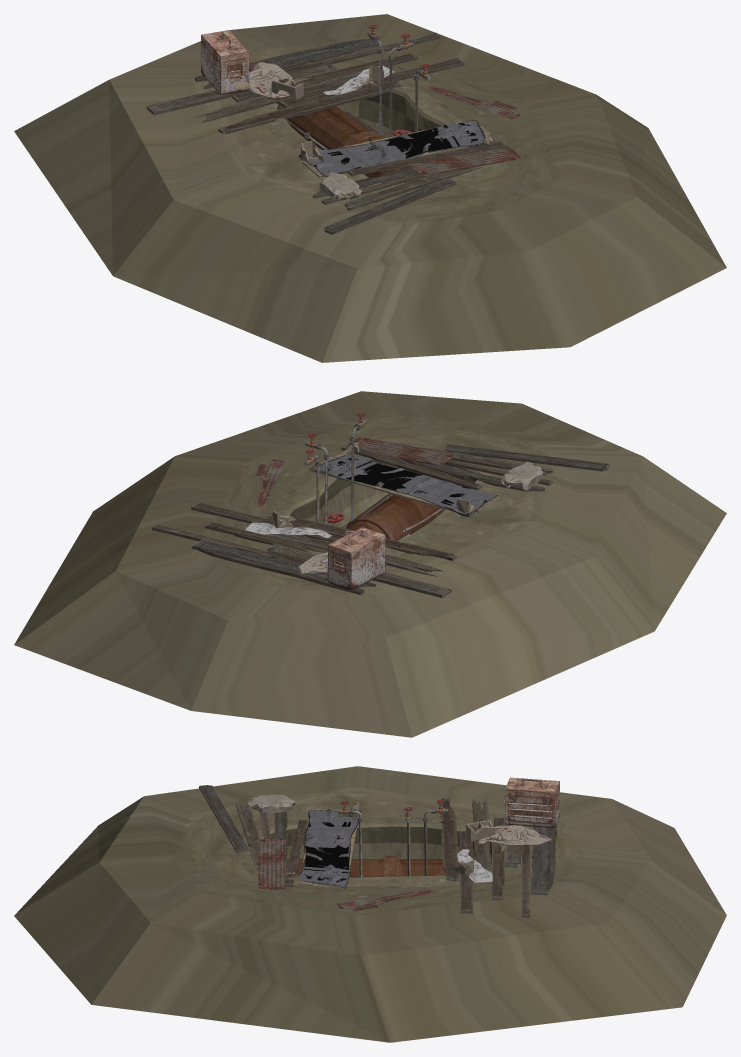
The model's file is watertreatment-pipe-access-point-6e3b8f8c-near-textured-map-near.glb.
The picture shows the model from 3 angles, top to bottom: view 1: azimuth 30°, elevation 25°; view 2: azimuth 150°, elevation 25°; view 3: azimuth 270°, elevation 25°; orthographic projection. The views are drawn at different scales.
Parts seen in each view (by area): view 1: 9, 2, 11, 5, 12, 4, 7, 0, 10, 6; view 2: 9, 2, 11, 4, 5, 12, 7, 0, 6, 10, 3, 1 (+1 smaller); view 3: 9, 2, 11, 12, 5, 4, 0, 10, 7, 6.
Part boxes in pixels (left/top/right/bottom): 9: left=14, top=14, right=726, bottom=362; 2: left=146, top=32, right=505, bottom=234; 11: left=201, top=30, right=249, bottom=94; 5: left=307, top=121, right=484, bottom=175; 12: left=409, top=85, right=522, bottom=175; 4: left=298, top=120, right=485, bottom=176; 7: left=287, top=106, right=415, bottom=182; 0: left=271, top=66, right=492, bottom=199; 10: left=249, top=62, right=394, bottom=97; 6: left=285, top=37, right=419, bottom=176; 9: left=14, top=391, right=726, bottom=737; 2: left=152, top=444, right=609, bottom=598; 11: left=327, top=527, right=385, bottom=590; 4: left=309, top=454, right=497, bottom=516; 5: left=313, top=454, right=495, bottom=514; 12: left=255, top=437, right=455, bottom=506; 7: left=347, top=474, right=444, bottom=539; 0: left=272, top=442, right=543, bottom=536; 6: left=315, top=425, right=442, bottom=540; 10: left=245, top=522, right=331, bottom=573; 3: left=311, top=453, right=500, bottom=512; 1: left=304, top=412, right=366, bottom=528; 9: left=14, top=766, right=726, bottom=1042; 2: left=199, top=785, right=556, bottom=917; 11: left=503, top=777, right=559, bottom=827; 12: left=258, top=839, right=436, bottom=910; 5: left=299, top=810, right=358, bottom=886; 4: left=299, top=809, right=360, bottom=888; 0: left=247, top=794, right=495, bottom=881; 10: left=457, top=824, right=550, bottom=882; 7: left=286, top=859, right=491, bottom=877; 6: left=352, top=809, right=433, bottom=877.
Bounding box in the file's own units: 9.3 × 2.3 × 11.32.
Materials: 13 (13 with a texture image).
